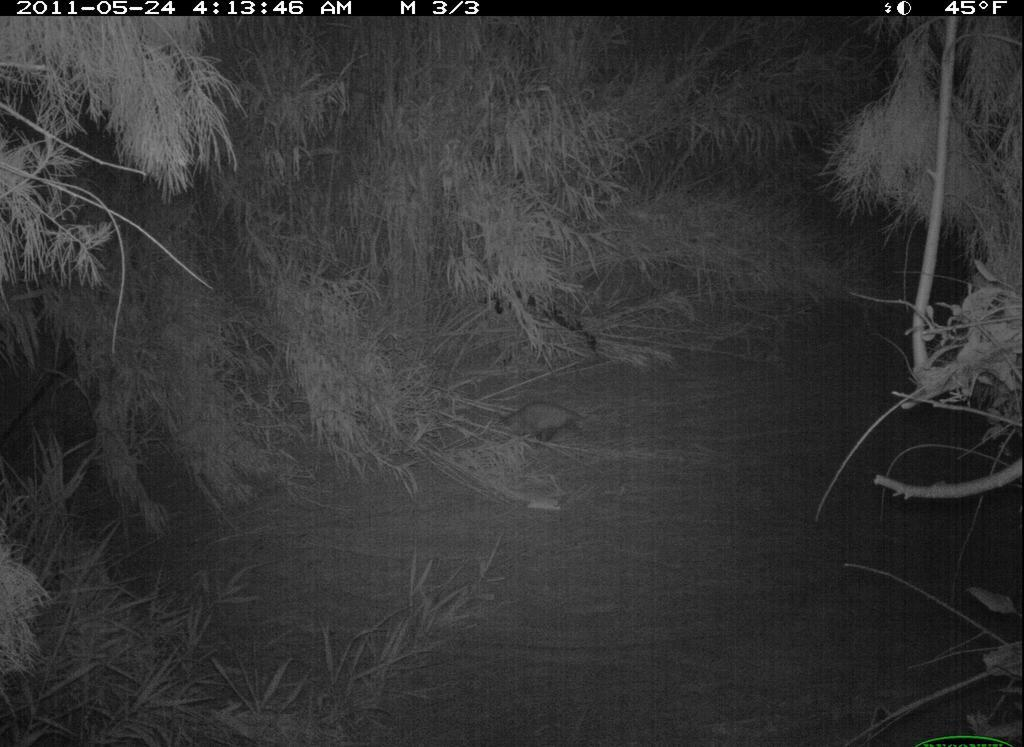opossum: (482, 392, 609, 455)
